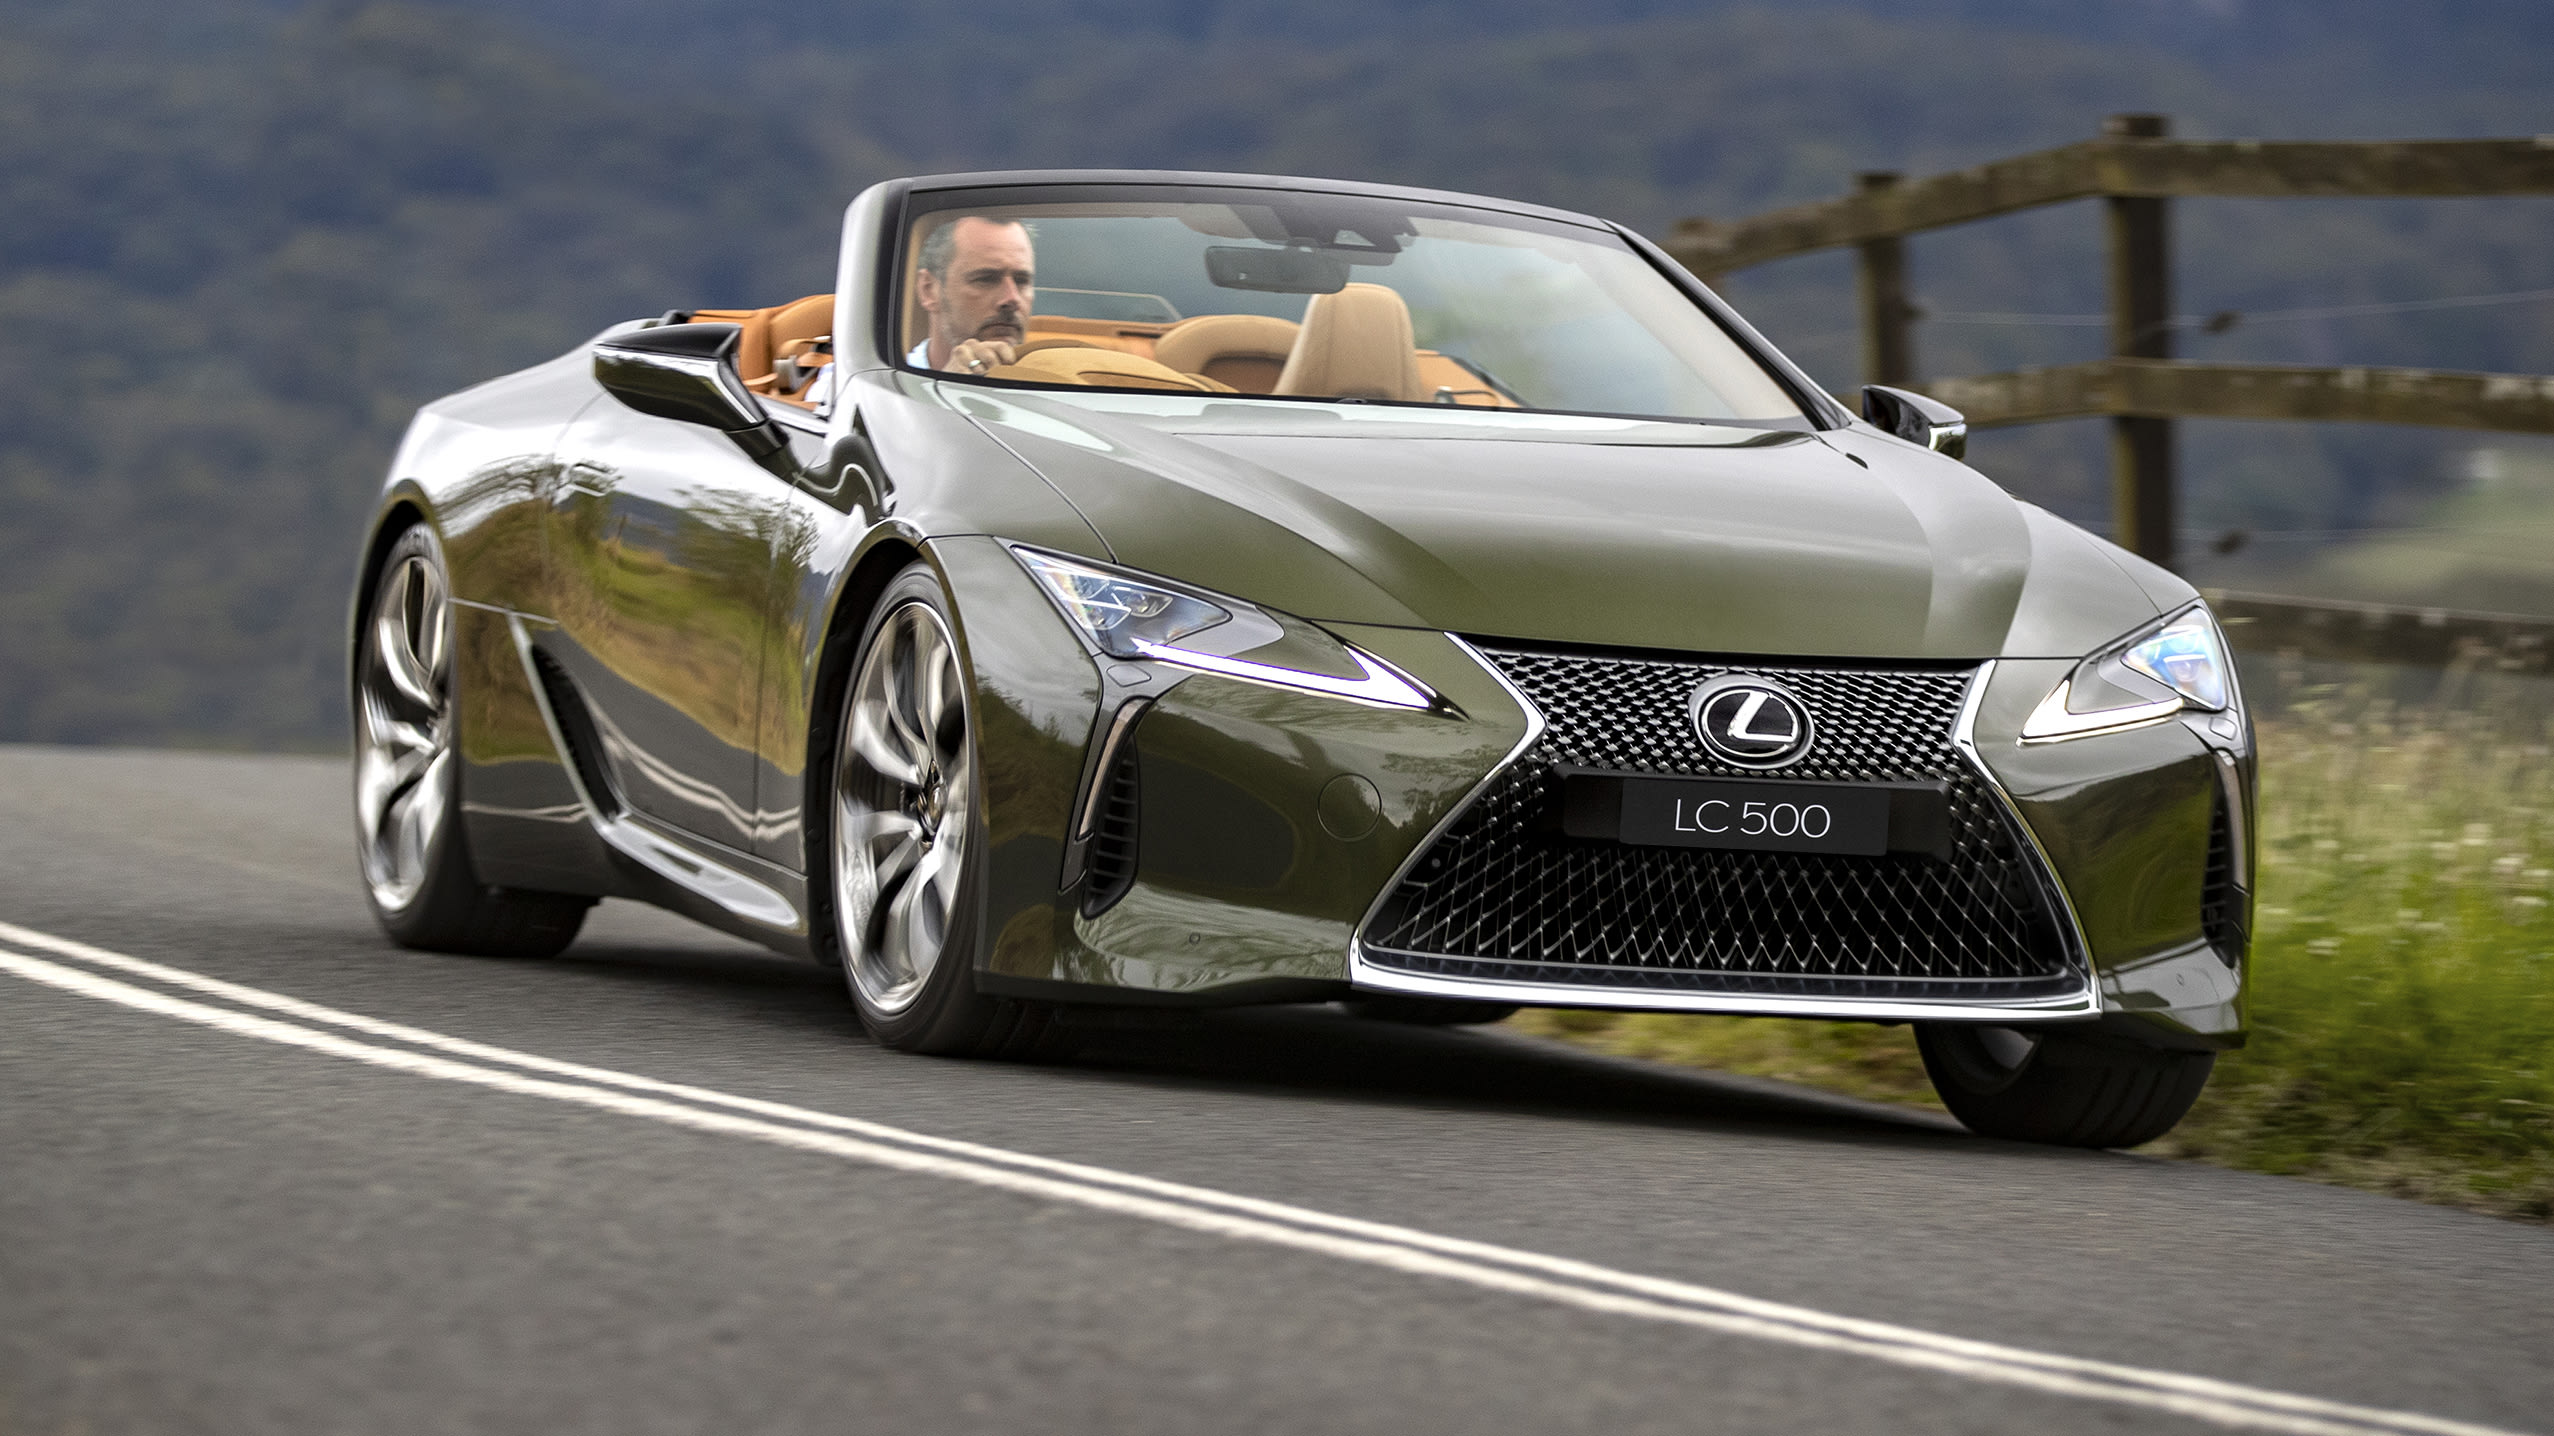car: (339, 165, 2254, 1150)
